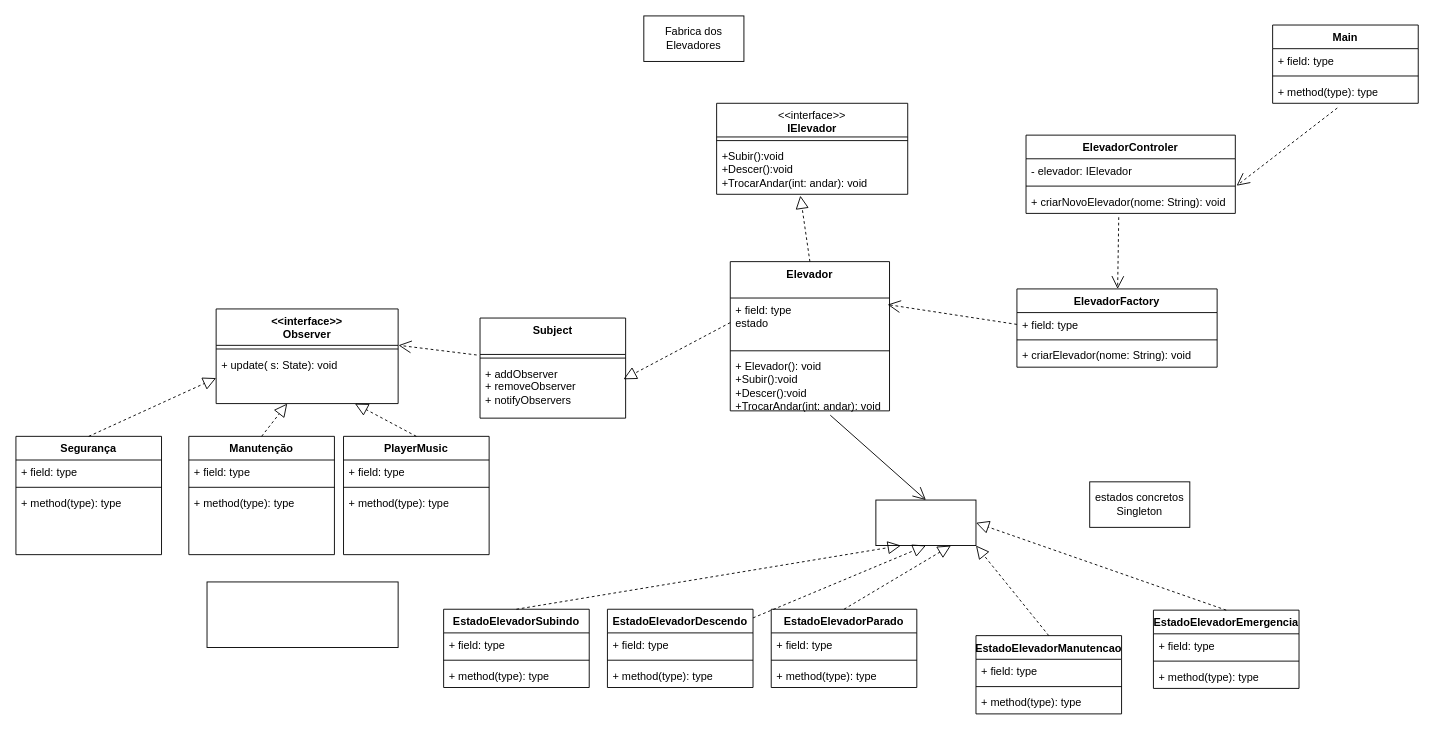
Image size: 1434x733. Some labels were removed from this diagram. Here are the shapes that lost their labels. From the top down, the centre of each, then its label:
At point (925, 522): "«interface» EstadosElevador".
At point (302, 614): "mais observadores modulos com interesse na mudança de estado".
